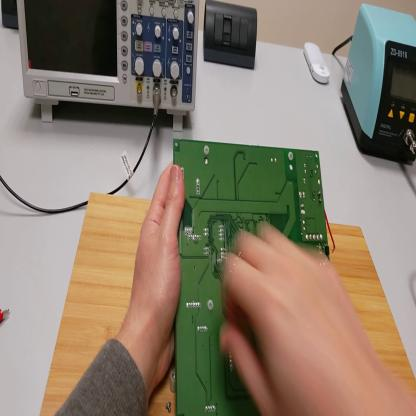hand: (221, 223, 387, 414), (130, 159, 187, 379)
low voltage board: (172, 136, 335, 416)
oscilloscope: (19, 2, 200, 131)
socket: (1, 1, 20, 30)
welder station: (343, 8, 416, 165)
working area: (42, 195, 415, 415)
